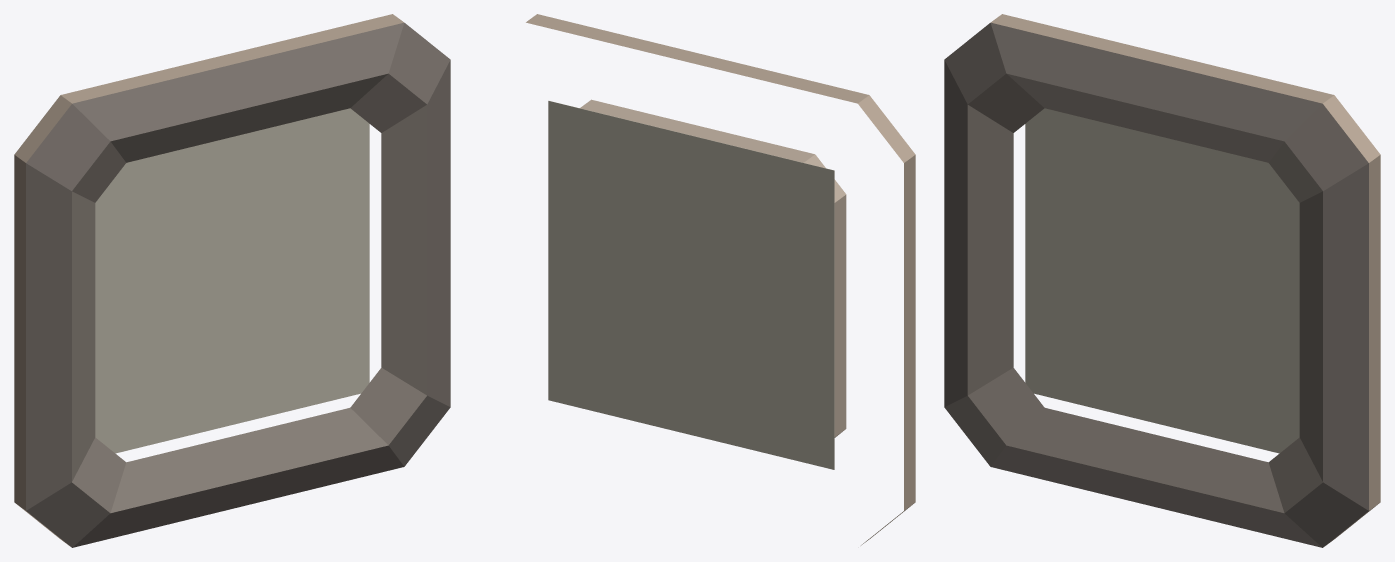
The model's file is ommerschans_stalcomplex_dak_v2.glb.
3 renders of one model, left to right at view 1: azimuth 30°, elevation 25°; view 2: azimuth 150°, elevation 25°; view 3: azimuth 330°, elevation 25°, orthographic.
Visible parts, largest first — view 1: binnenplaats_vloer, dakvlak_buitenzijde, dakvlak_binnenplaats, buitenmuren; view 2: binnenplaats_vloer, buitenmuren, binnenplaatsmuren; view 3: binnenplaats_vloer, dakvlak_buitenzijde, dakvlak_binnenplaats, buitenmuren.
Part boxes in pixels (<box>): binnenplaats_vloer: <box>95,108,369,453</box>; dakvlak_buitenzijde: <box>26,22,450,547</box>; dakvlak_binnenplaats: <box>72,73,427,513</box>; buitenmuren: <box>14,14,403,545</box>; binnenplaats_vloer: <box>548,100,834,469</box>; buitenmuren: <box>526,14,915,545</box>; binnenplaatsmuren: <box>580,99,846,437</box>; binnenplaats_vloer: <box>1025,108,1299,453</box>; dakvlak_buitenzijde: <box>944,22,1368,547</box>; dakvlak_binnenplaats: <box>967,73,1322,513</box>; buitenmuren: <box>991,14,1380,545</box>.
Size of the model in its own units: 92 by 92 by 8.68.
